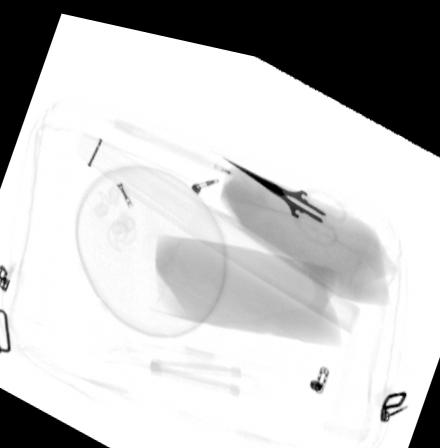Scissors: (223, 148, 346, 234)
